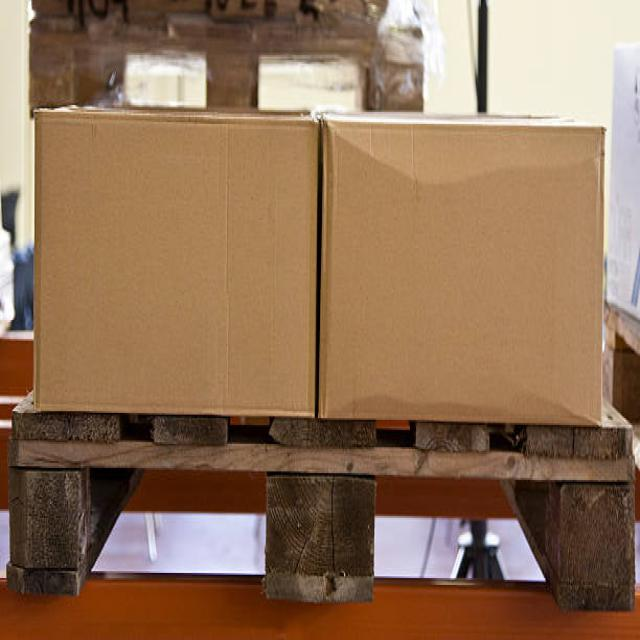Wooden-Pallets: (4, 386, 635, 624)
